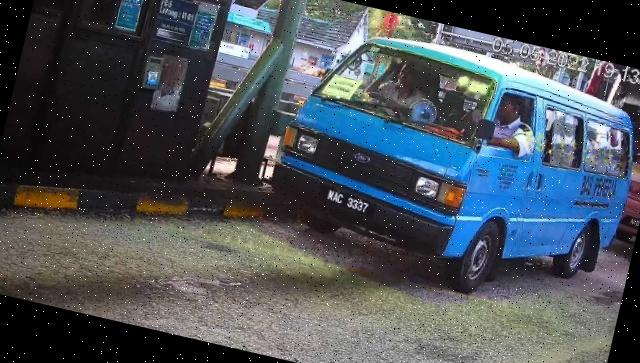License_Plate: (319, 188, 375, 220)
van: (258, 13, 640, 322)
